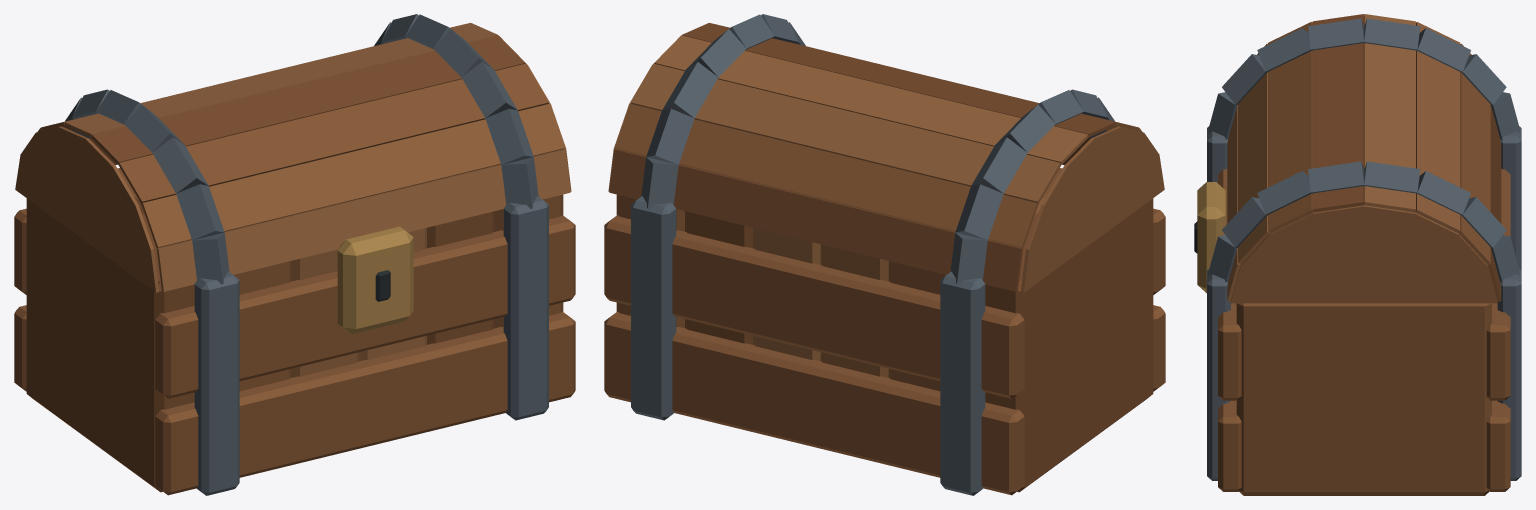
The model's file is PROP_11_TreasureChest.glb.
The picture shows the model from 3 angles, left to right: view 1: azimuth 30°, elevation 25°; view 2: azimuth 150°, elevation 25°; view 3: azimuth 270°, elevation 25°; orthographic projection. The views are drawn at different scales.
Parts seen in each view (by area): view 1: PROP_11_TreasureChest; view 2: PROP_11_TreasureChest; view 3: PROP_11_TreasureChest.
Boxes of the visible parts, x1,y1,x2,y2 form: PROP_11_TreasureChest: [14, 14, 575, 495]; PROP_11_TreasureChest: [604, 14, 1165, 495]; PROP_11_TreasureChest: [1194, 14, 1521, 495].
Size of the model in its own units: 1.53 by 1.17 by 1.1.
